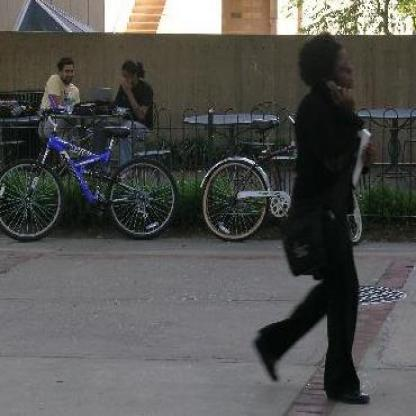person: (263, 32, 373, 403)
